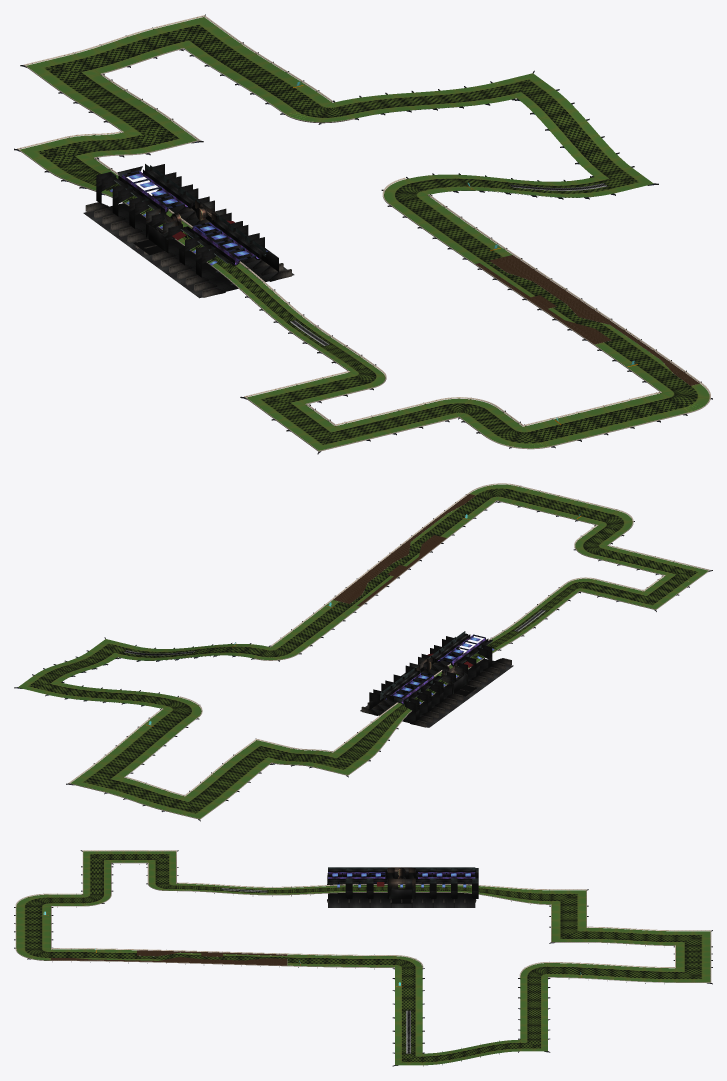
File: Track.obj
3 views of the same model, one above another, from view 1: azimuth 30°, elevation 25°; view 2: azimuth 150°, elevation 25°; view 3: azimuth 270°, elevation 25° (orthographic). The views are drawn at different scales.
Visible parts, largest first — view 1: S_SLOT_GATE, C39_ROAD04, C39_ROAD03, C39_ROAD06, C39_ROAD05, C39_ROAD07, C39_ROAD02, C39_ROAD01, C39_DIRT01, C39_GUARDRAIL03, C39_GUARDRAIL04, C39_GUARDRAIL06 (+3 smaller); view 2: C39_ROAD03, S_SLOT_GATE, C39_ROAD04, C39_ROAD05, C39_ROAD02, C39_ROAD06, C39_ROAD07, C39_DIRT01, C39_ROAD01, C39_GUARDRAIL03, C39_GUARDRAIL04, C39_GUARDRAIL06 (+2 smaller); view 3: C39_ROAD04, S_SLOT_GATE, C39_ROAD03, C39_ROAD05, C39_ROAD02, C39_ROAD06, C39_ROAD07, C39_ROAD01, C39_DIRT01, C39_GUARDRAIL04, C39_GUARDRAIL03, C39_GUARDRAIL01 (+3 smaller).
Part boxes in pixels (x1,y1,x2,y2): S_SLOT_GATE: [83, 164, 294, 298]; C39_ROAD04: [286, 70, 658, 204]; C39_ROAD03: [20, 14, 334, 132]; C39_ROAD06: [438, 383, 712, 448]; C39_ROAD05: [387, 195, 701, 393]; C39_ROAD07: [240, 366, 458, 454]; C39_ROAD02: [14, 121, 203, 204]; C39_ROAD01: [141, 207, 376, 372]; C39_DIRT01: [475, 255, 699, 385]; C39_GUARDRAIL03: [24, 15, 354, 131]; C39_GUARDRAIL04: [382, 177, 700, 391]; C39_GUARDRAIL06: [244, 365, 458, 451]; C39_ROAD03: [66, 709, 272, 821]; S_SLOT_GATE: [360, 631, 513, 727]; C39_ROAD04: [14, 637, 297, 717]; C39_ROAD05: [270, 494, 498, 654]; C39_ROAD02: [237, 703, 411, 777]; C39_ROAD06: [469, 484, 634, 556]; C39_ROAD07: [562, 546, 712, 611]; C39_DIRT01: [333, 494, 475, 606]; C39_ROAD01: [398, 587, 580, 705]; C39_GUARDRAIL03: [68, 696, 271, 819]; C39_GUARDRAIL04: [254, 493, 496, 660]; C39_GUARDRAIL06: [562, 545, 710, 610]; C39_ROAD04: [392, 956, 550, 1066]; S_SLOT_GATE: [327, 867, 478, 907]; C39_ROAD03: [548, 927, 712, 984]; C39_ROAD05: [51, 949, 394, 969]; C39_ROAD02: [457, 885, 588, 943]; C39_ROAD06: [14, 894, 110, 960]; C39_ROAD07: [80, 850, 178, 894]; C39_ROAD01: [176, 883, 450, 896]; C39_DIRT01: [51, 950, 287, 965]; C39_GUARDRAIL04: [51, 948, 423, 967]; C39_GUARDRAIL03: [519, 926, 711, 982]; C39_GUARDRAIL01: [176, 882, 450, 895].
Size of the model in its own units: 2244 by 307 by 3656.
71 materials, 71 textured.
